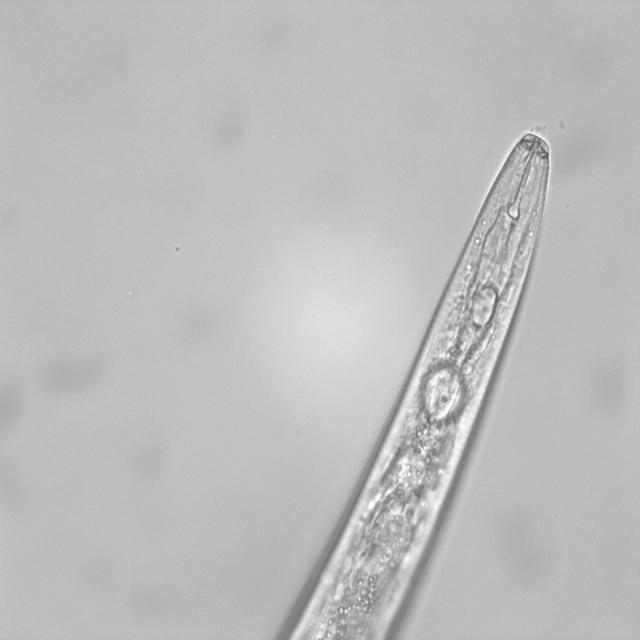Pratylenchus: (261, 117, 560, 640)
